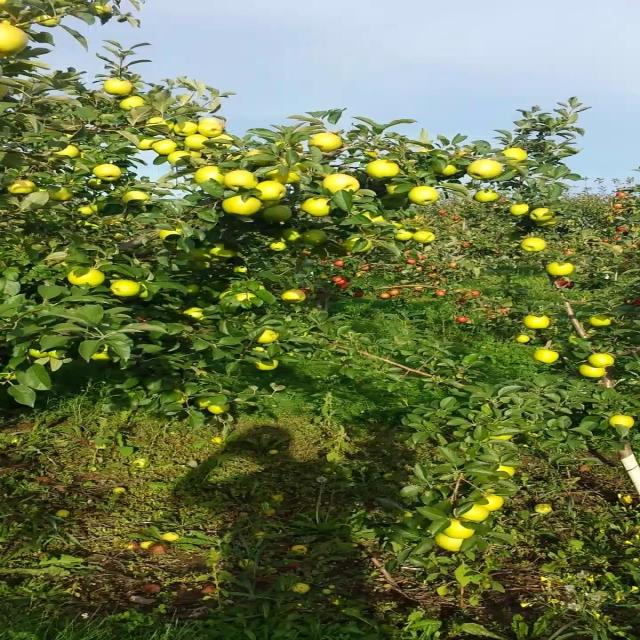apple: (0, 21, 29, 56), (0, 24, 29, 56), (222, 195, 262, 216), (67, 268, 104, 288), (467, 159, 502, 179), (322, 174, 360, 192), (367, 159, 400, 179), (309, 132, 342, 152), (256, 180, 287, 201), (264, 166, 300, 184), (224, 170, 258, 189), (444, 520, 476, 539), (409, 186, 440, 205), (300, 198, 331, 216), (244, 149, 276, 166), (102, 79, 133, 96), (260, 205, 291, 222), (144, 116, 173, 134), (198, 118, 224, 138), (196, 166, 224, 184), (342, 236, 373, 252), (93, 164, 122, 181), (111, 280, 140, 297), (460, 505, 489, 522), (167, 151, 202, 165), (204, 134, 236, 149), (587, 352, 616, 368), (122, 190, 151, 206), (431, 159, 458, 176), (436, 534, 462, 551), (478, 494, 504, 511), (7, 179, 36, 194), (207, 244, 236, 259), (520, 236, 547, 252), (151, 139, 178, 155), (578, 364, 607, 378), (300, 230, 327, 245), (184, 134, 209, 150), (547, 261, 573, 276), (118, 95, 144, 110), (533, 349, 560, 363), (522, 315, 549, 329), (280, 289, 307, 303), (53, 145, 82, 158), (173, 121, 198, 136), (609, 415, 636, 428), (473, 189, 500, 202), (33, 15, 60, 28), (502, 148, 527, 162), (47, 188, 73, 201), (529, 208, 553, 222), (258, 329, 280, 344), (253, 359, 280, 371), (158, 228, 184, 240), (91, 2, 113, 16), (413, 230, 436, 243), (87, 178, 111, 190), (189, 248, 211, 261), (509, 202, 529, 216), (280, 228, 300, 242), (362, 211, 387, 222), (387, 182, 409, 194), (589, 315, 611, 326), (207, 404, 229, 415), (182, 308, 204, 319), (393, 229, 413, 241), (138, 138, 158, 150), (78, 204, 98, 216), (269, 240, 289, 251), (553, 278, 573, 289), (533, 218, 558, 226), (533, 504, 553, 514), (498, 465, 516, 476), (138, 285, 151, 300), (29, 349, 49, 358), (196, 396, 211, 408), (236, 292, 256, 301), (49, 358, 62, 371), (91, 351, 109, 360), (244, 150, 267, 157), (47, 350, 63, 359), (262, 200, 280, 208), (516, 334, 531, 343), (364, 149, 380, 157), (389, 221, 404, 229), (233, 266, 249, 273), (253, 346, 264, 352), (564, 250, 576, 255)
